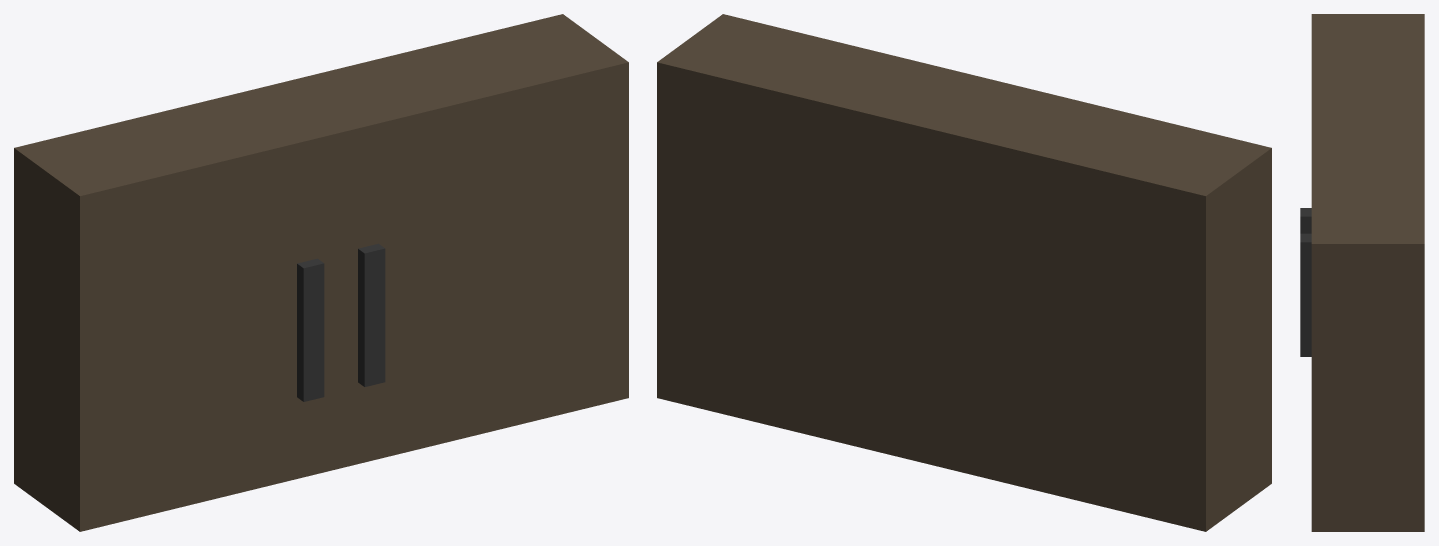
File: Kitchen_Cupboards2.fbx
3 renders of one model, left to right at view 1: azimuth 30°, elevation 25°; view 2: azimuth 150°, elevation 25°; view 3: azimuth 270°, elevation 25°, orthographic. The views are drawn at different scales.
Parts seen in each view (by area): view 1: polySurface13, polySurface7, polySurface3; view 2: polySurface13; view 3: polySurface13, polySurface3, polySurface7.
Part boxes in pixels (x1,y1,x2,y2): polySurface13: (14,14,628,531); polySurface7: (297,258,324,401); polySurface3: (358,243,385,386); polySurface13: (657,14,1271,531); polySurface13: (1311,14,1424,531); polySurface3: (1300,233,1311,356); polySurface7: (1300,208,1311,233).
Bounding box in the file's own units: 2.11 × 1.23 × 0.4828.
